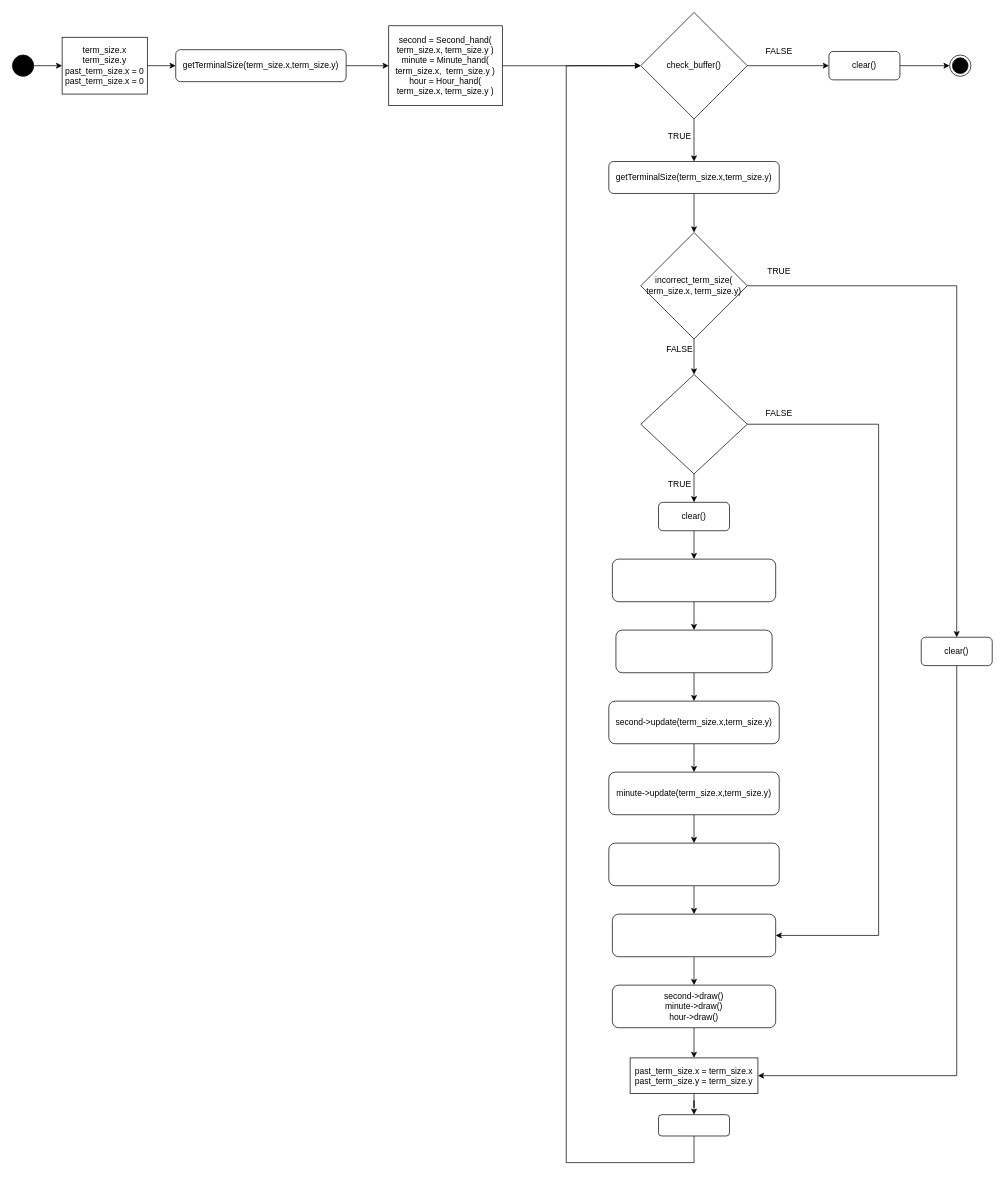
This 1005x1181 diagram has some shape labels left out. The shapes that lost their labels are listed below. From the top down, each one's centre as x and y in pixels, then its label:
At pixel 693 424: "term_size.x != past_term_size.x || term_size.y != past_term_size.y".
At pixel 694 580: "background(term_size.x,term_size.y)".
At pixel 693 651: "draw_circle(term_size.x,term_size.y)".
At pixel 693 864: "hour->update(term_size.x,term_size.y)".
At pixel 694 935: "second->clear() minute->clear() hour->clear()".
At pixel 694 1125: "usleep(100000)".
